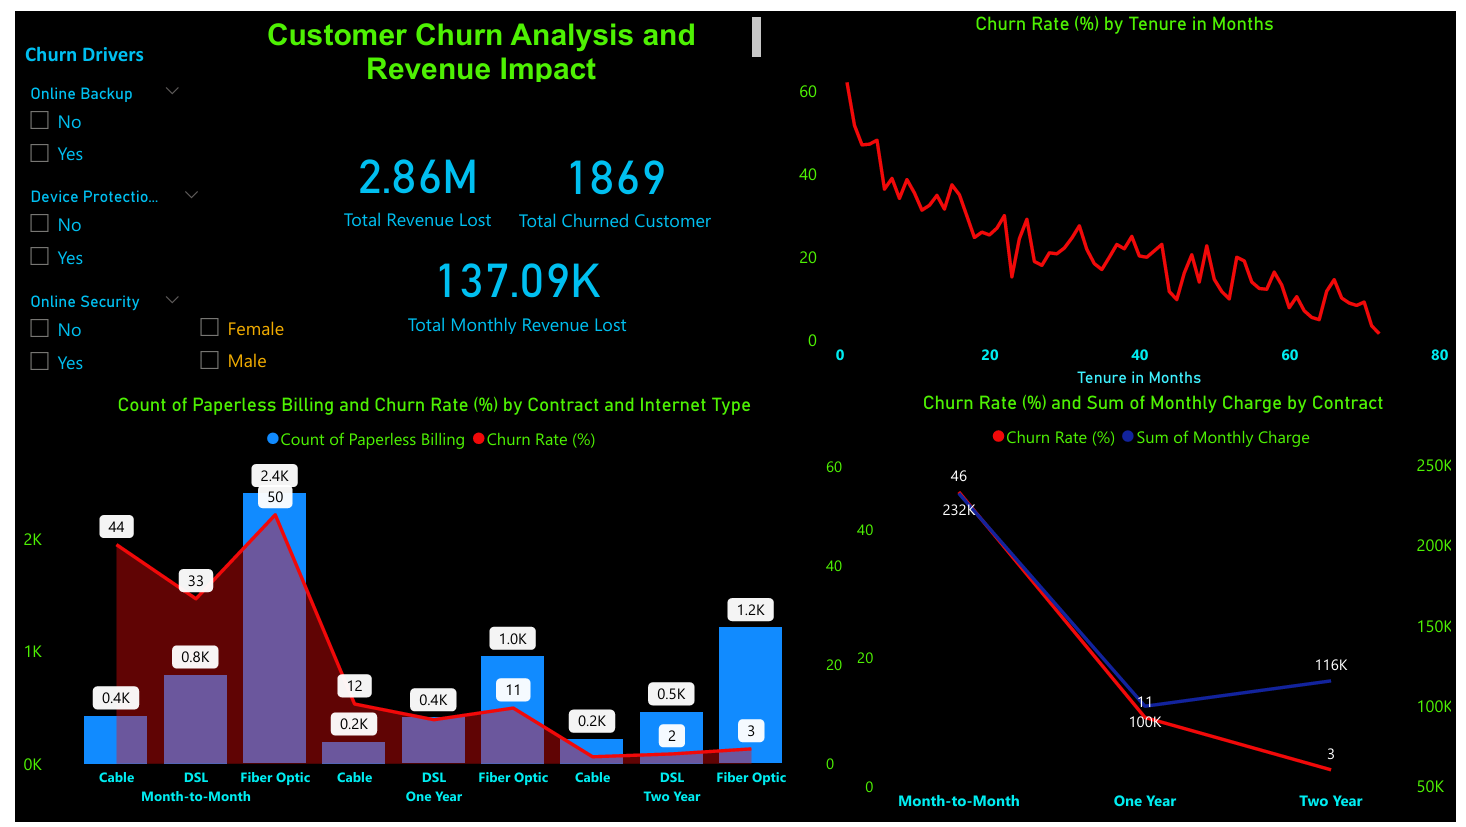

The page's visual inventory and layout, read from the dashboard file:
{"tool":"powerbi","page":{"name":"Page 1","canvas":[1280,720],"ordinal":0},"visuals":[{"type":"lineChart","fields":{"Category":["Sheet1.Contract"],"Y":["Sheet1.Churn Rate (%)"],"Y2":["Sum(Sheet1.Monthly Charge)"]},"box":[742.1,337.2,537.9,382.8],"z":0},{"type":"lineClusteredColumnComboChart","fields":{"Category":["Sheet1.Contract","Sheet1.Internet Type"],"Y":["CountNonNull(Sheet1.Paperless Billing)"],"Y2":["Sheet1.Churn Rate (%)"]},"box":[0,337.9,741.8,381.9],"z":1000},{"type":"lineChart","fields":{"Y":["Sheet1.Churn Rate (%)"],"Category":["Sheet1.Tenure in Months"]},"box":[691.3,0,588.7,337.6],"z":2000},{"type":"textbox","box":[167.4,0,500.9,67.2],"z":3000},{"type":"slicer","fields":{"Values":["Sheet1.Device Protection Plan"]},"box":[0,150.9,175.5,93.3],"z":4000},{"type":"slicer","fields":{"Values":["Sheet1.Online Security"]},"box":[0,244.3,157.8,93.3],"z":5000},{"type":"textbox","box":[0,17.8,175.6,41.2],"z":6000},{"type":"slicer","fields":{"Values":["Sheet1.Gender"]},"box":[150.9,260.7,108.4,74.1],"z":7000},{"type":"slicer","fields":{"Values":["Sheet1.Online Backup"]},"box":[0,59,157.8,91.9],"z":8000},{"type":"card","fields":{"Values":["Sheet1.Total Churned (ByID)"]},"box":[435,105.7,194.9,94.7],"z":9000},{"type":"card","fields":{"Values":["Sheet1.Total Revenue Lost"]},"box":[278.6,105.7,156.4,93.3],"z":10000},{"type":"card","fields":{"Values":["Sheet1.Total Monthly Revenue Lost"]},"box":[330.7,197.6,229.2,94.7],"z":11000}]}

Visuals, with their boxes in screenshot pixels (x1, y1, x2, y2), scaled from the page's 1280x720 canvas onto the 1466x827 screenshot:
lineChart - Sheet1.Contract x Sheet1.Churn Rate (%): <box>850,387,1465,826</box>
lineClusteredColumnComboChart - Sheet1.Contract x Sheet1.Internet Type: <box>0,388,850,826</box>
lineChart - Sheet1.Churn Rate (%) x Sheet1.Tenure in Months: <box>792,0,1465,388</box>
textbox: <box>192,0,765,77</box>
slicer - Sheet1.Device Protection Plan: <box>0,173,201,280</box>
slicer - Sheet1.Online Security: <box>0,281,181,388</box>
textbox: <box>0,20,201,68</box>
slicer - Sheet1.Gender: <box>173,299,297,385</box>
slicer - Sheet1.Online Backup: <box>0,68,181,173</box>
card - Sheet1.Total Churned (ByID): <box>498,121,721,230</box>
card - Sheet1.Total Revenue Lost: <box>319,121,498,229</box>
card - Sheet1.Total Monthly Revenue Lost: <box>379,227,641,336</box>
